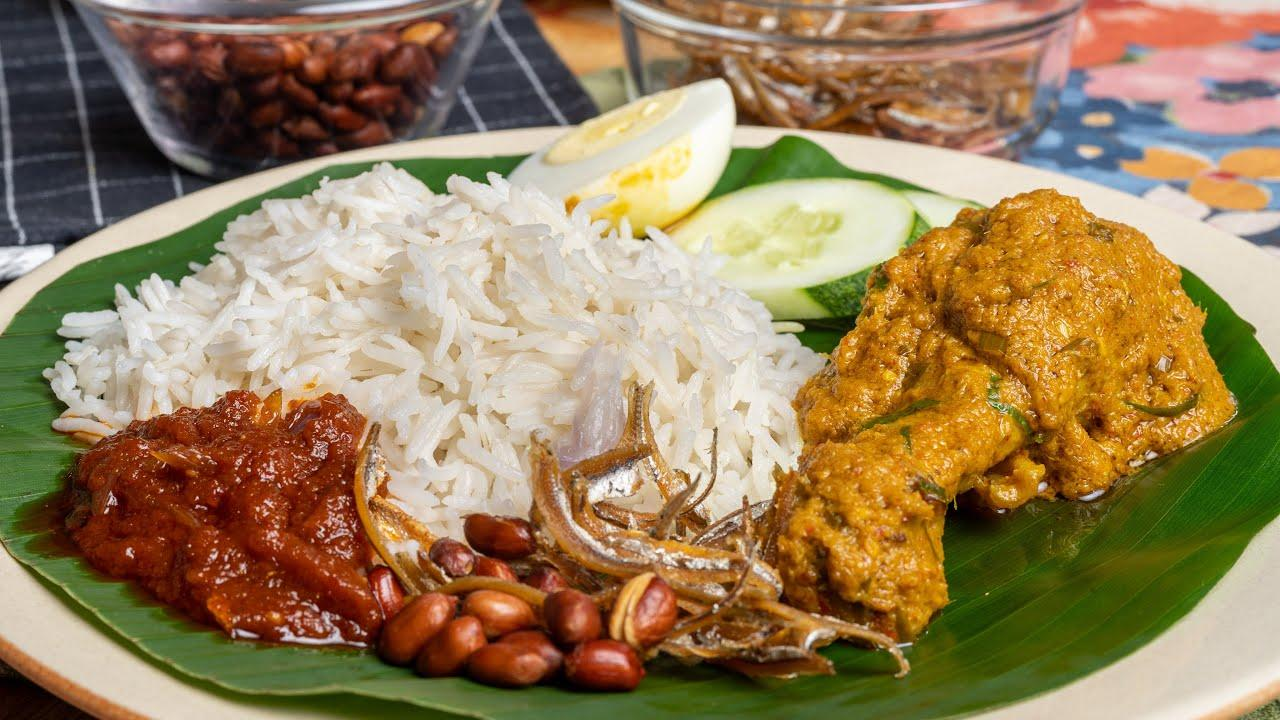Anchovies: (529, 384, 910, 680)
Boiled-Egg: (495, 80, 736, 233)
Cucumber: (662, 179, 966, 319)
Peanuts: (374, 514, 676, 692)
Rendang-Chicken: (774, 189, 1236, 647)
Rice: (43, 166, 825, 522)
Sambal: (74, 396, 400, 650)
